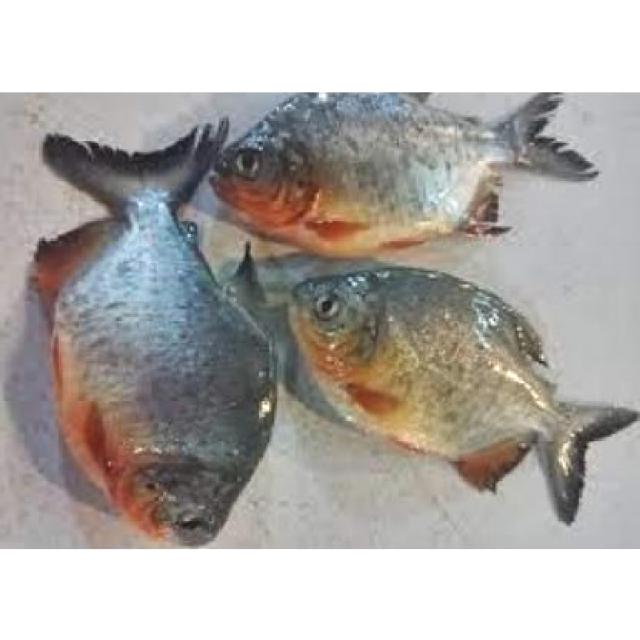ikan-pacu: (33, 135, 272, 542), (283, 264, 622, 508), (213, 90, 581, 233)
